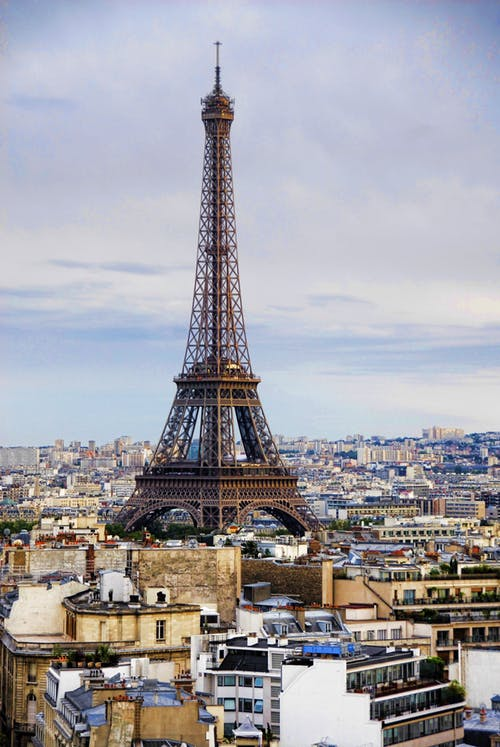eiffel tower: (92, 21, 342, 544)
